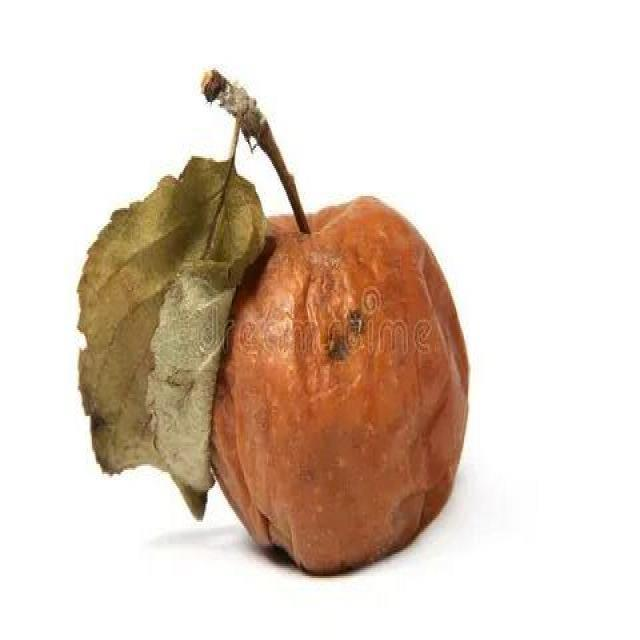Rotten: (194, 192, 478, 564)
